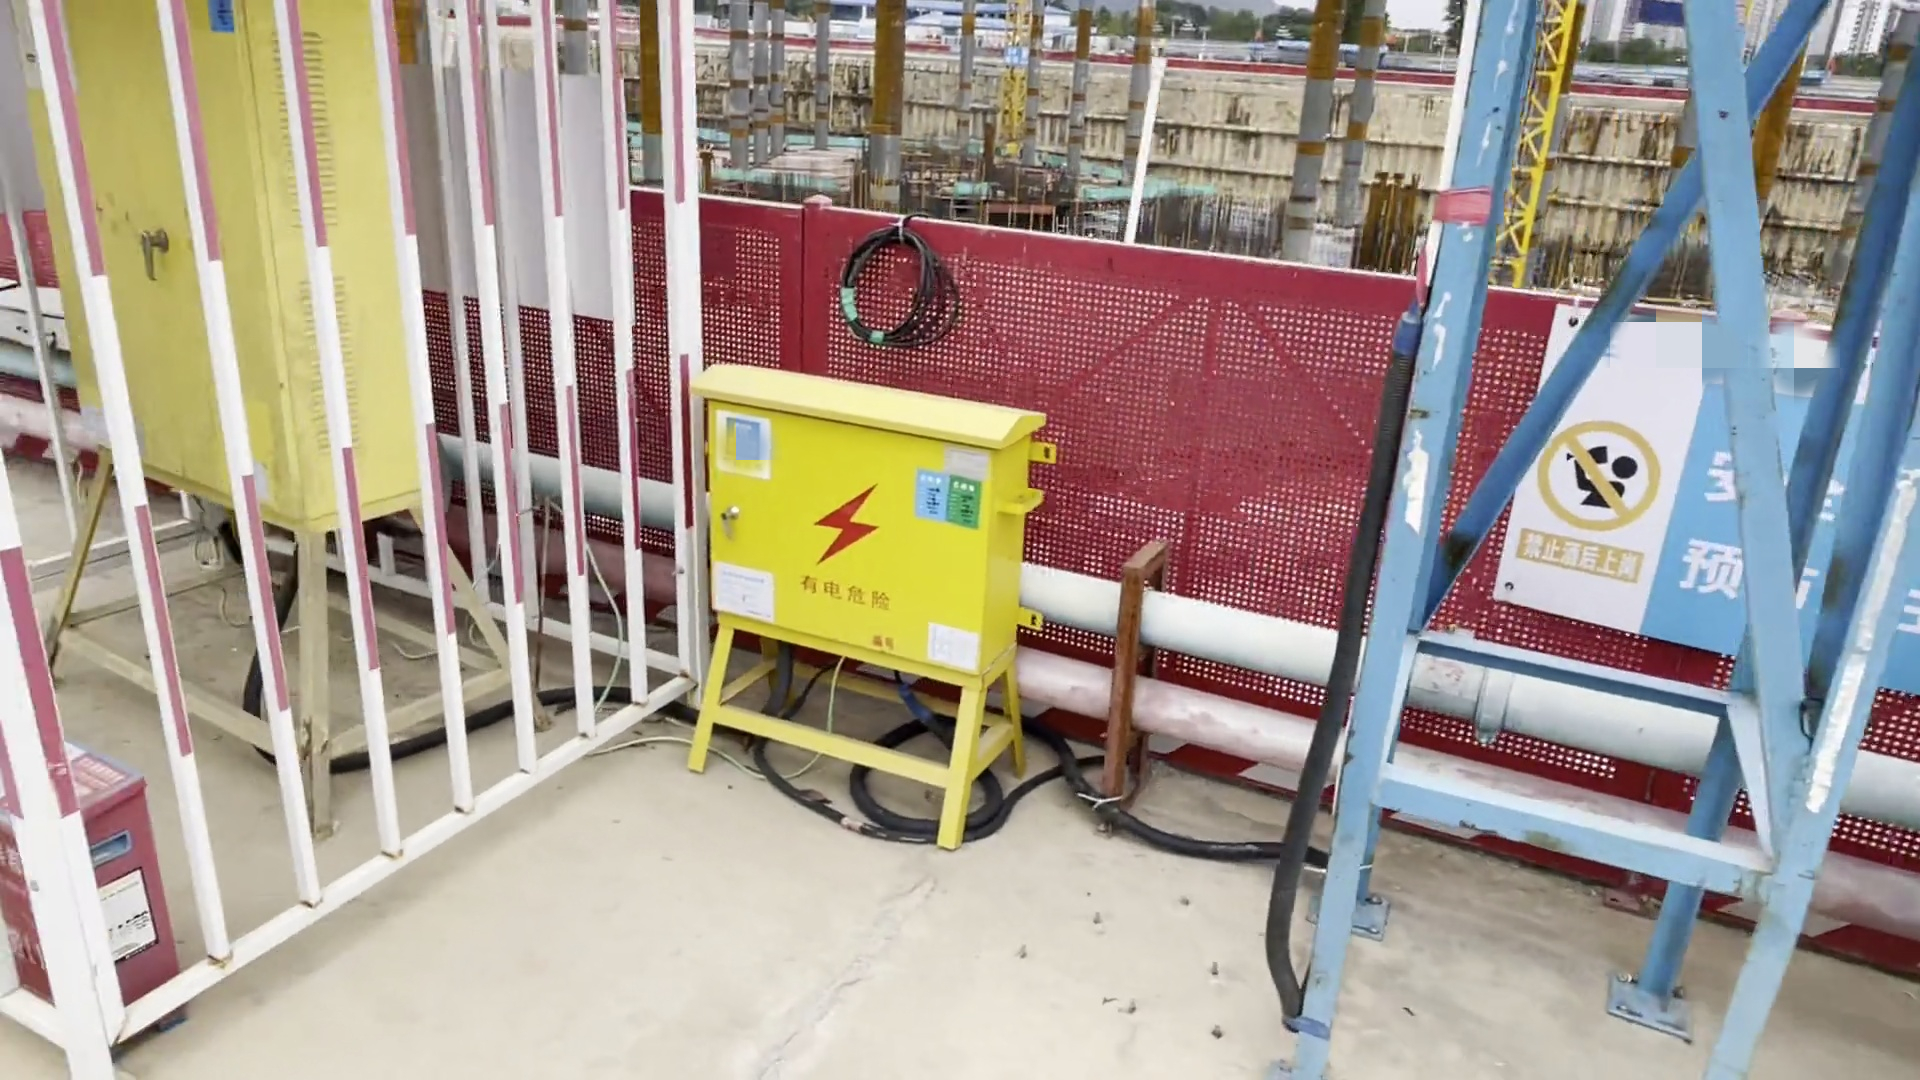ebox: (22, 1, 547, 773), (674, 349, 1052, 860)
